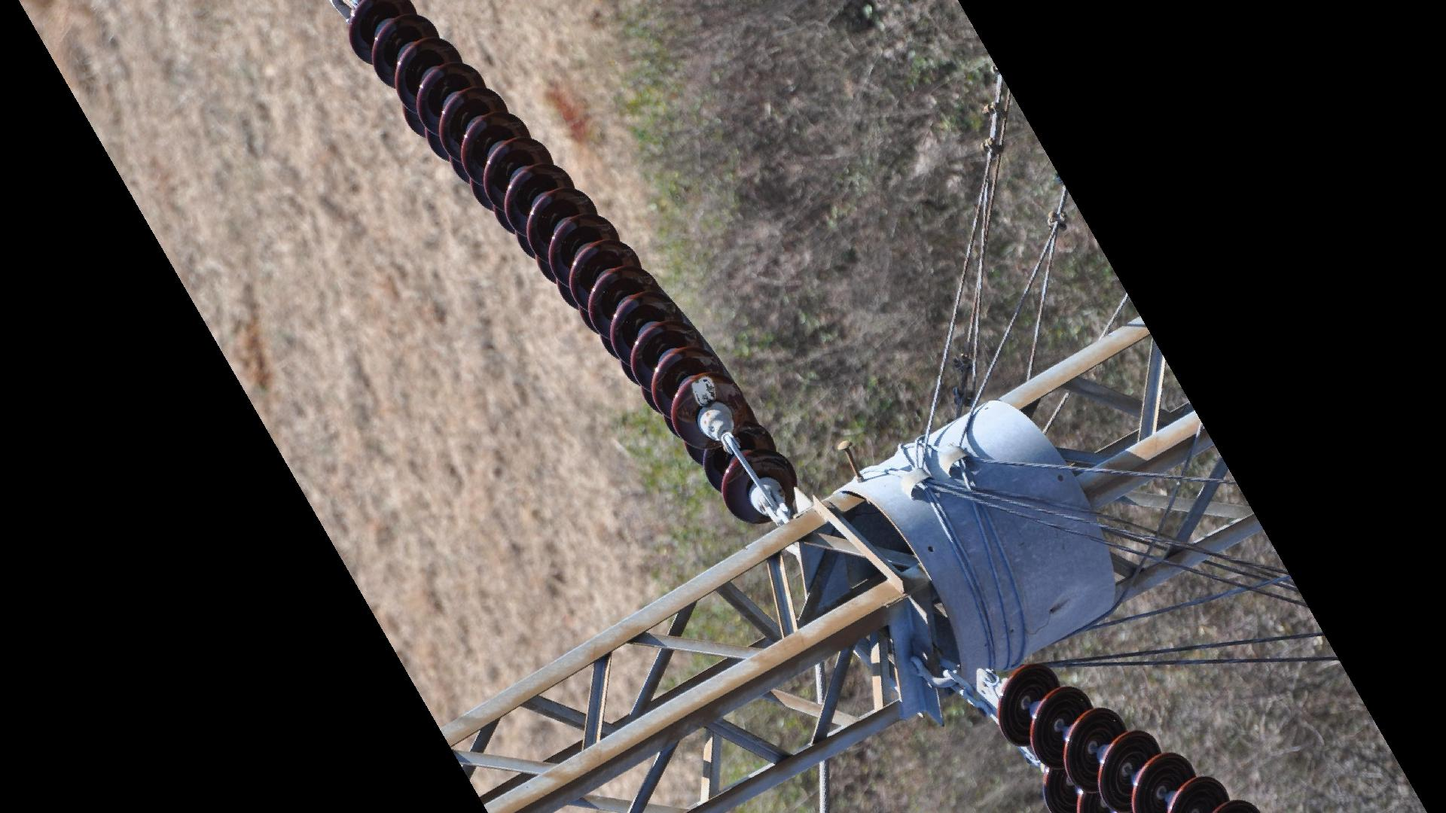insulator: (339, 1, 801, 531), (990, 657, 1267, 813)
insulator_flashover: (689, 372, 719, 407)
